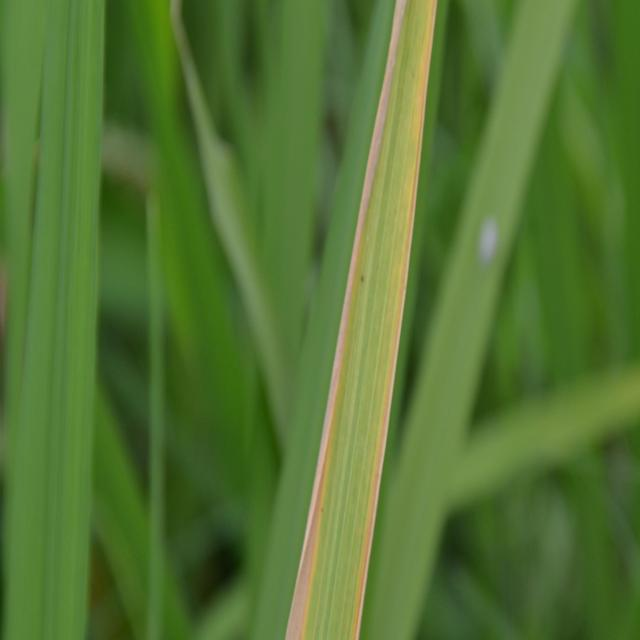Rice Tungro: (266, 8, 450, 640)
